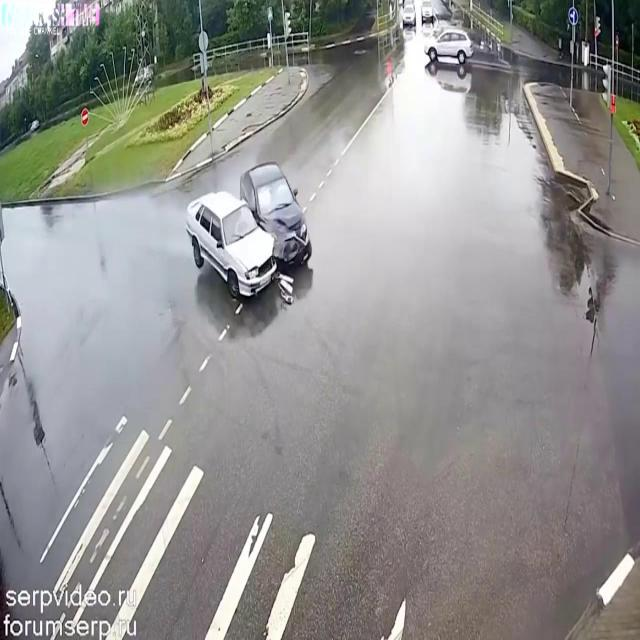accident: (178, 155, 320, 319)
